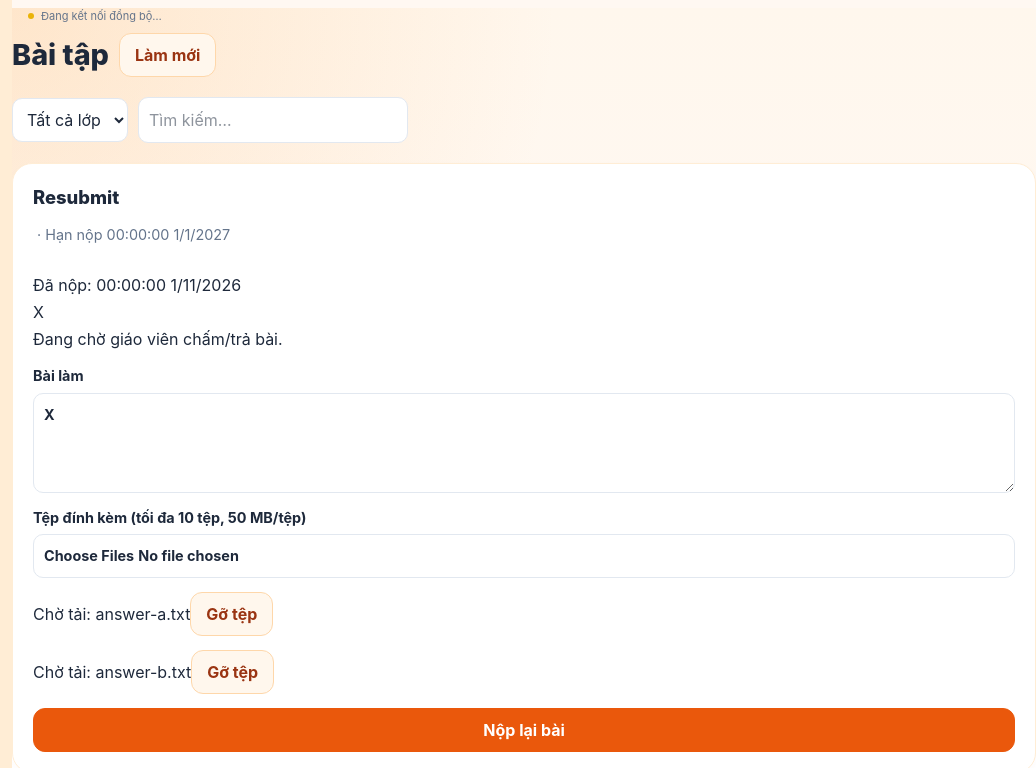
API portal screens › shows names for successful and pending uploads and clears the native input on failure
The width and height of the screenshot is (1036, 768).
Earlier steps of the test are not shown.
Click the button "Nộp lại bài".
click(524, 730)  # box [33,708,1015,752]
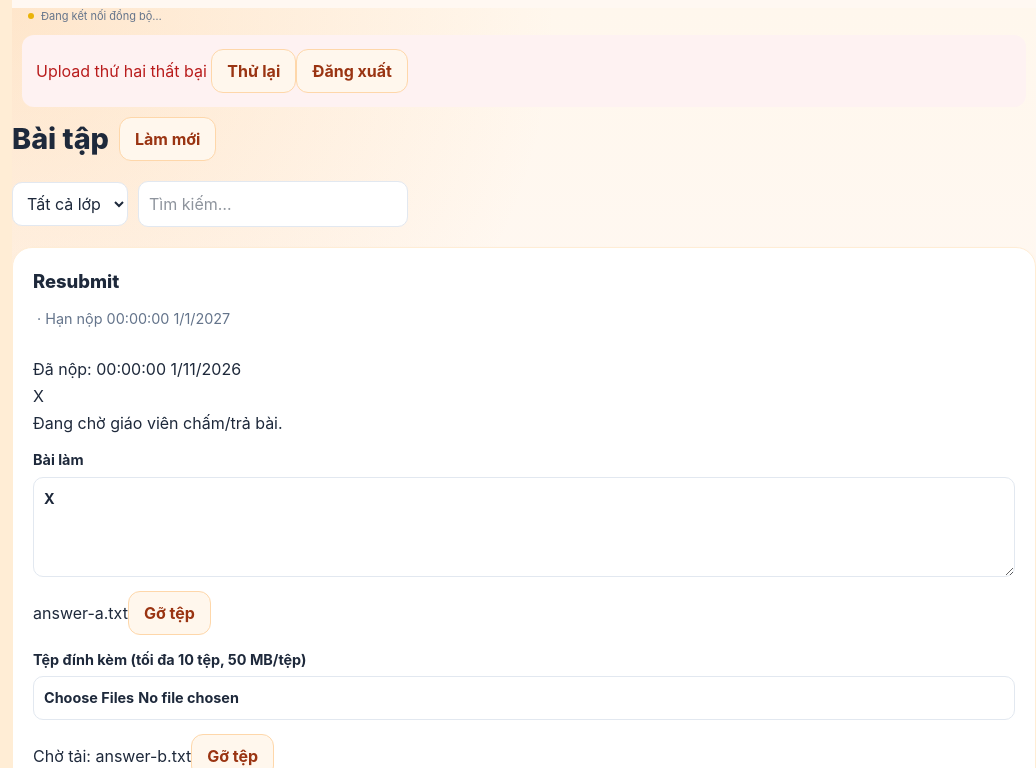
Check: the message "Upload thứ hai thất bại Thử lại Đăng xuất" is shown, box [22,34,1026,106]
Check: the button with aria-label "Gỡ tệp answer-a.txt" is shown, box [128,591,211,635]
Check: the file field labelled "Tệp đính kèm (tối đa 10 tệp, 50 MB/tệp)" is empty, box [33,676,1015,720]
